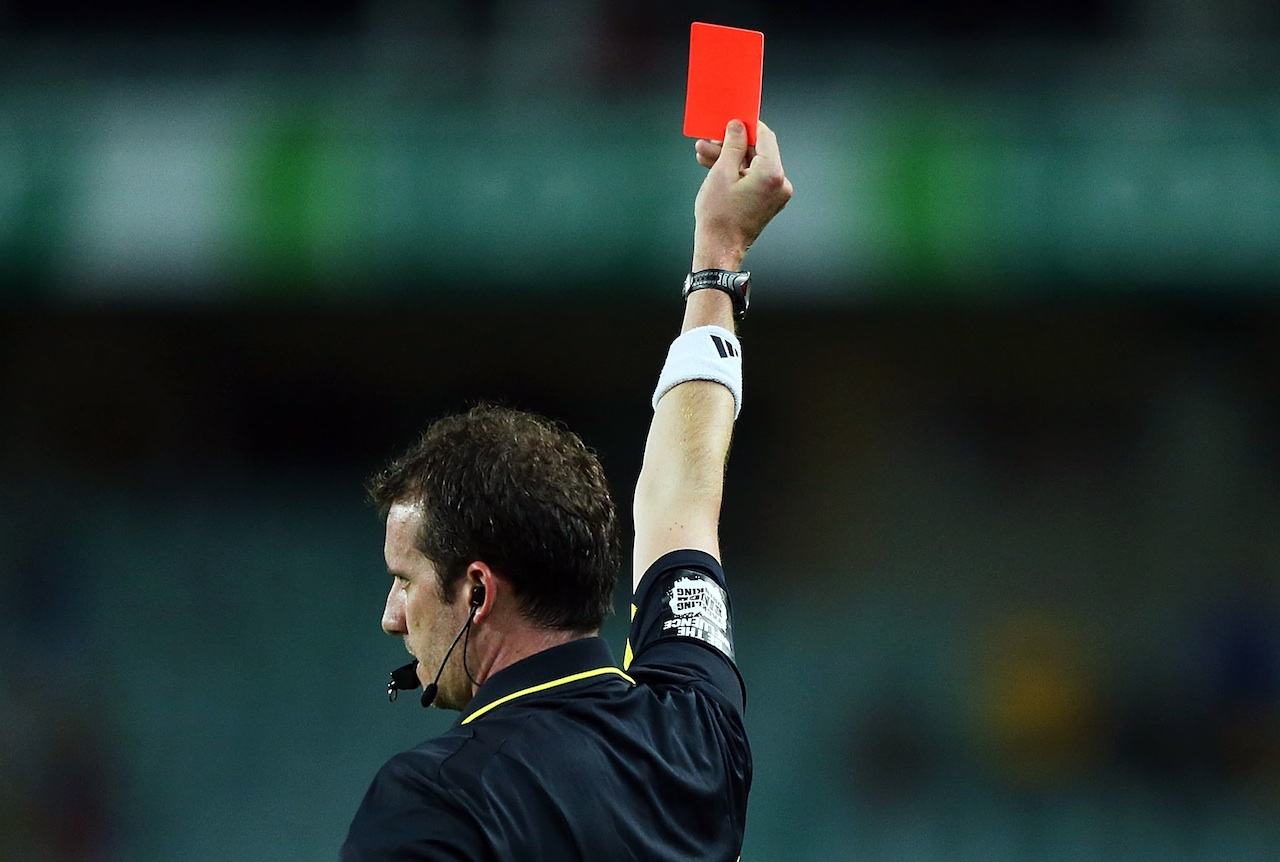red_card: (655, 10, 821, 261)
